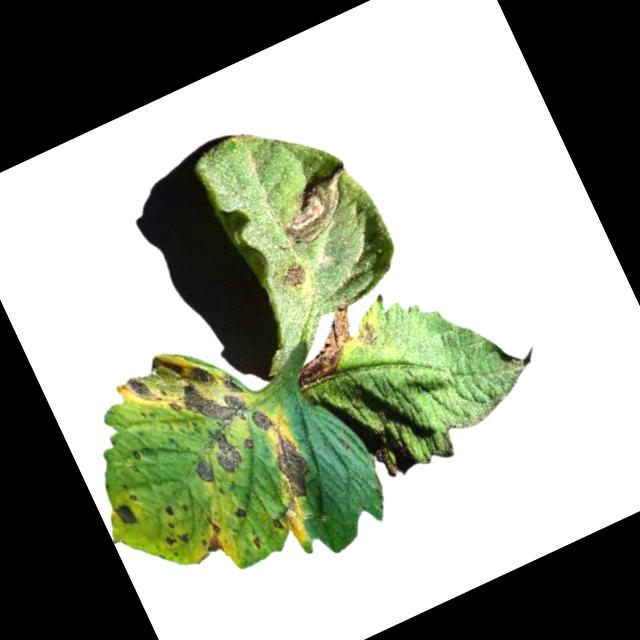Early_blight: (109, 326, 255, 464), (274, 295, 374, 389), (261, 161, 363, 252), (258, 424, 321, 505), (200, 423, 245, 477), (195, 516, 229, 559), (108, 497, 139, 530), (246, 404, 276, 436), (277, 260, 307, 290), (164, 525, 193, 551), (192, 457, 216, 485), (160, 502, 177, 519), (231, 503, 247, 520), (271, 516, 286, 533), (241, 434, 256, 450)
